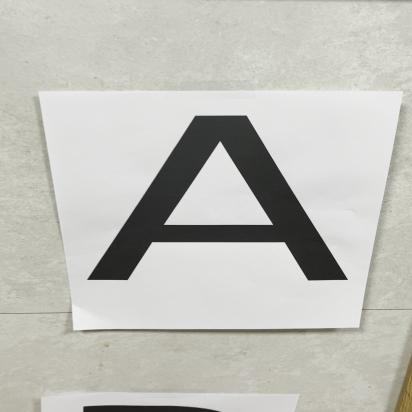seat: (73, 95, 361, 308)
